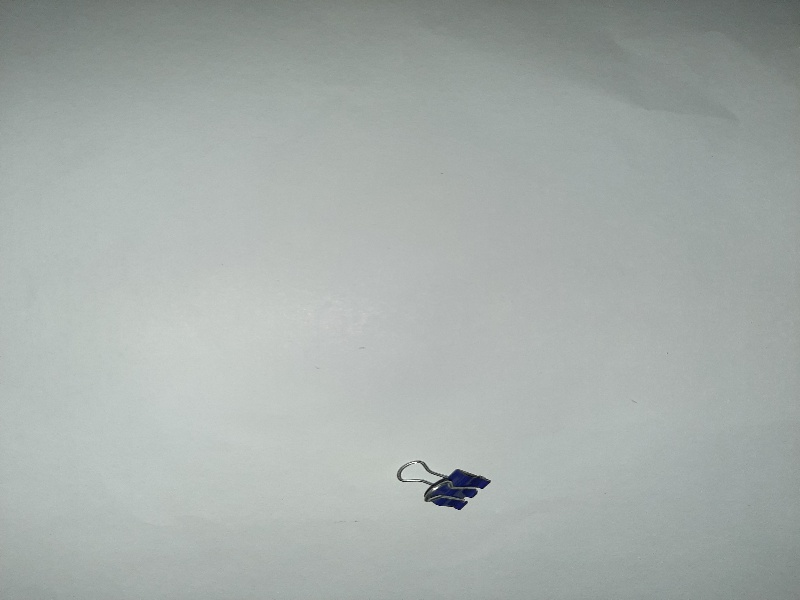Small Paperclip: (394, 452, 497, 515)
